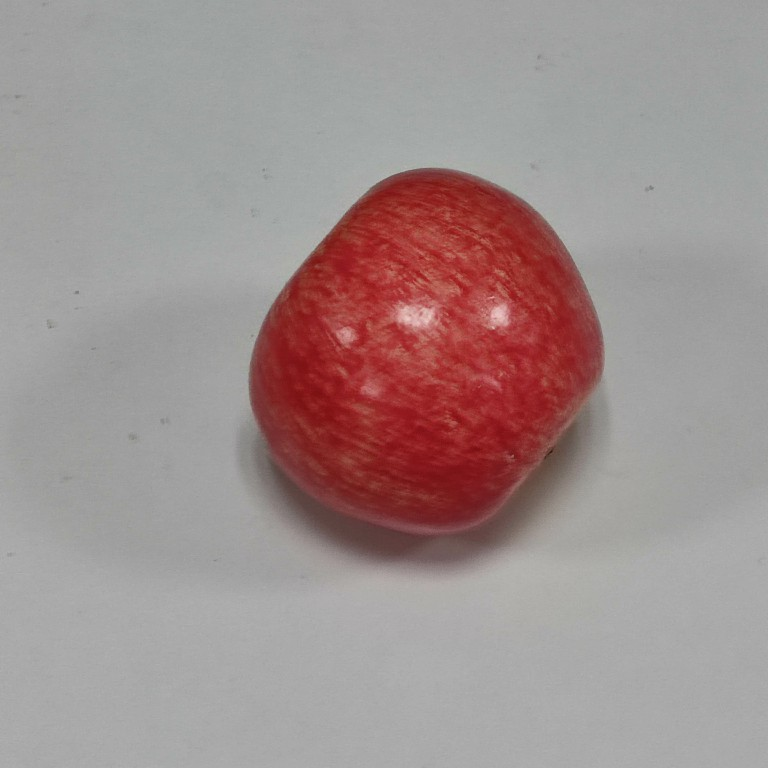fruit_apple: (242, 162, 610, 544)
